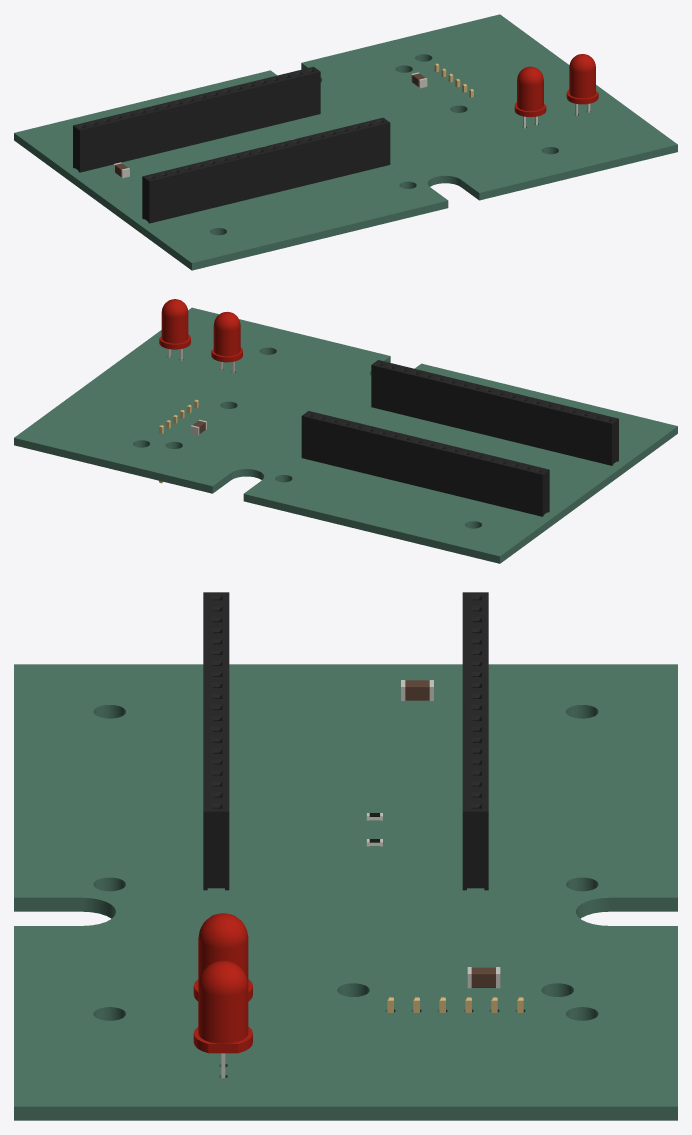
File: aoi-pcb.glb
The picture shows the model from 3 angles, top to bottom: view 1: azimuth 30°, elevation 25°; view 2: azimuth 150°, elevation 25°; view 3: azimuth 270°, elevation 25°; orthographic projection. The views are drawn at different scales.
Visible parts, largest first — view 1: =>[0:1:1:12], =>[0:1:1:7] (×2), =>[0:1:1:3] (×2); view 2: =>[0:1:1:12], =>[0:1:1:7] (×2), =>[0:1:1:3] (×2); view 3: =>[0:1:1:12], =>[0:1:1:7] (×2), =>[0:1:1:3] (×2).
Part boxes in pixels (<box>): =>[0:1:1:12]: <box>14,14,677,270</box>; =>[0:1:1:7] (×2): <box>73,66,390,223</box>; =>[0:1:1:3] (×2): <box>514,54,598,128</box>; =>[0:1:1:12]: <box>14,307,677,563</box>; =>[0:1:1:7] (×2): <box>301,360,618,516</box>; =>[0:1:1:3] (×2): <box>159,299,242,373</box>; =>[0:1:1:12]: <box>14,664,677,1120</box>; =>[0:1:1:7] (×2): <box>203,592,488,890</box>; =>[0:1:1:3] (×2): <box>193,913,252,1078</box>.
Size of the model in its own units: 0.1025 by 0.0218 by 0.065.
